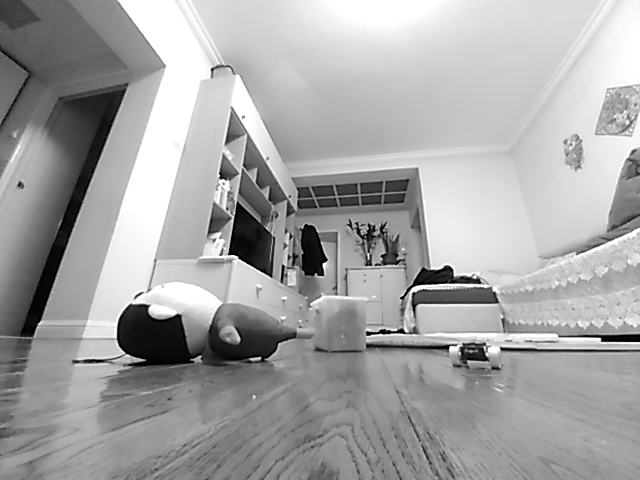carpet: (365, 328, 640, 355)
toy: (115, 281, 316, 369), (447, 339, 503, 373)
